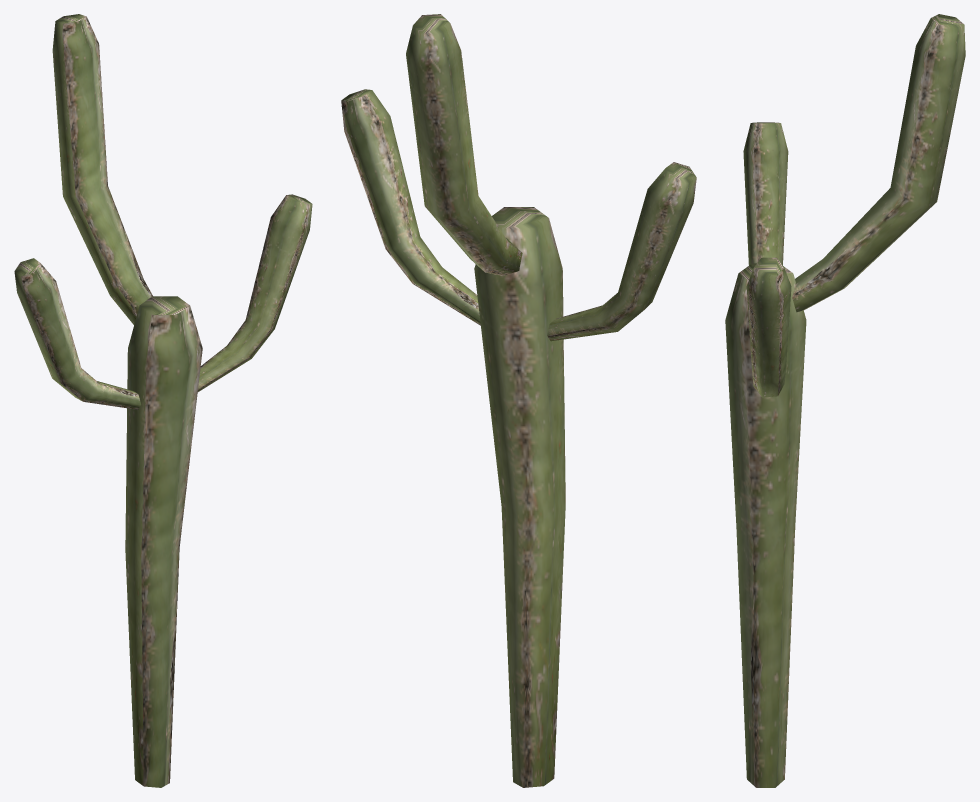
Rendered from cactus_stenocerus_large_c.dae.
3 renders of one model, left to right at view 1: azimuth 30°, elevation 25°; view 2: azimuth 150°, elevation 25°; view 3: azimuth 270°, elevation 25°, orthographic. The views are drawn at different scales.
Parts seen in each view (by area): view 1: Circle_001.001; view 2: Circle_001.001; view 3: Circle_001.001.
Part boxes in pixels (x1,y1,x2,y2): Circle_001.001: [14, 14, 312, 787]; Circle_001.001: [341, 14, 696, 787]; Circle_001.001: [725, 14, 965, 787].
Bounding box in the file's own units: 5.81 × 3.82 × 13.39.
